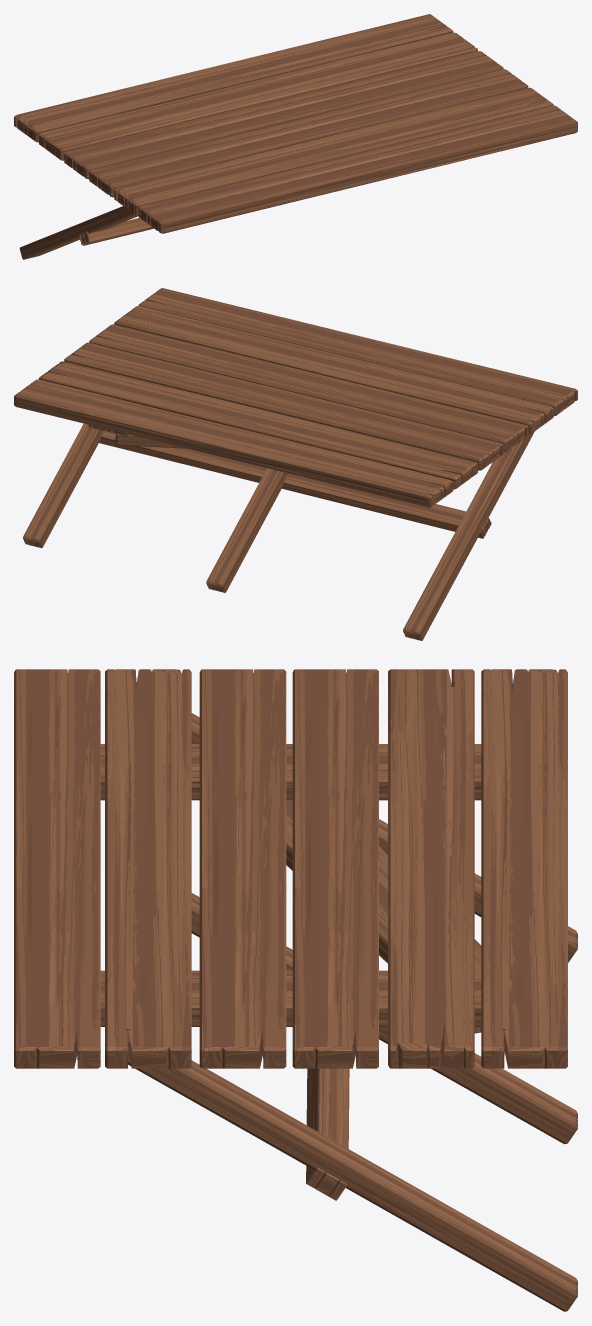
Rendered from Platform 1.fbx.
3 renders of one model, top to bottom at view 1: azimuth 30°, elevation 25°; view 2: azimuth 150°, elevation 25°; view 3: azimuth 270°, elevation 25°, orthographic. The views are drawn at different scales.
Parts seen in each view (by area): view 1: group10_pCylinder33; view 2: group10_pCylinder33; view 3: group10_pCylinder33.
Boxes of the visible parts, box(x1,y1,x2,y2) form: group10_pCylinder33: box(14, 14, 577, 259); group10_pCylinder33: box(14, 288, 577, 640); group10_pCylinder33: box(14, 669, 577, 1311).
Size of the model in its own units: 31.54 by 10.57 by 19.71.
